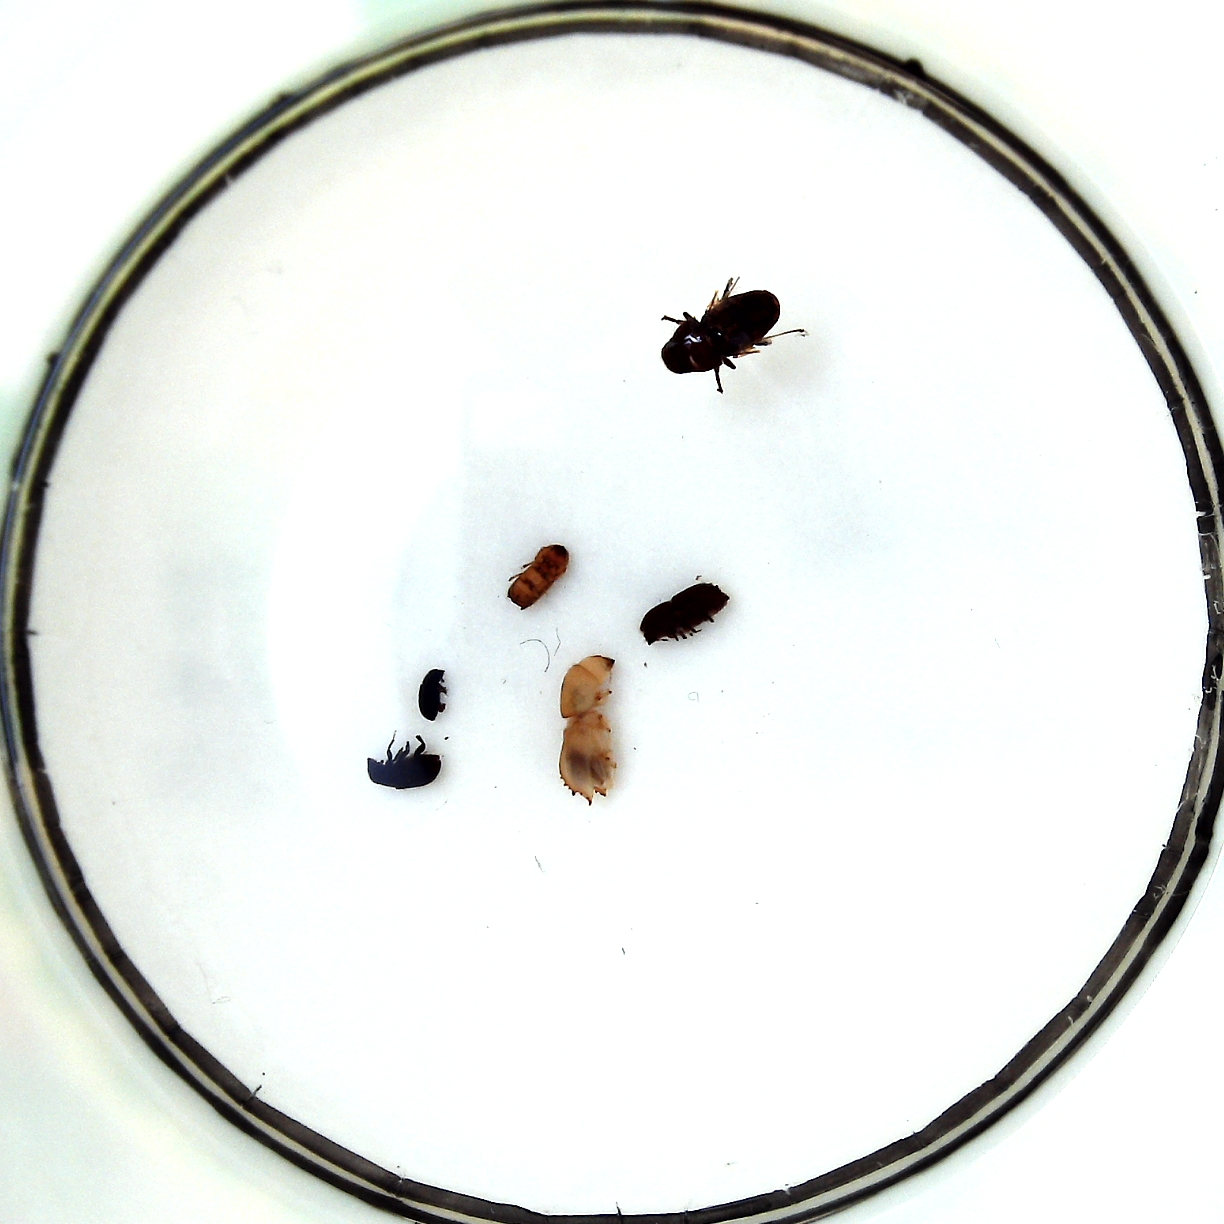Boerner: (558, 656, 618, 805)
Leconte: (661, 290, 781, 374)
acuminatus: (418, 668, 449, 722)
armandi: (367, 754, 441, 788)
linnaeus: (639, 582, 729, 645), (508, 543, 569, 608)
